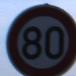Speed Limit -80-: (0, 0, 75, 75)
